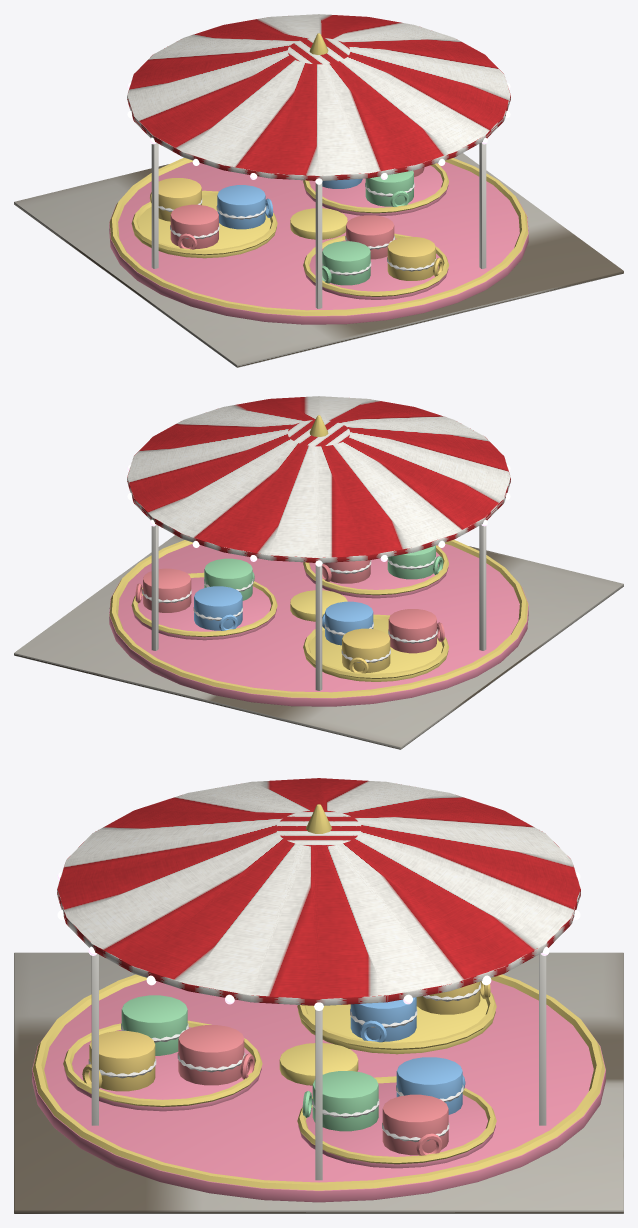
File: th32_teetassen.glb
3 views of the same model, one above another, from view 1: azimuth 30°, elevation 25°; view 2: azimuth 150°, elevation 25°; view 3: azimuth 270°, elevation 25° (orthographic). The views are drawn at different scales.
Visible parts, largest first — view 1: Cone, Cylinder, Cube, Torus, Cylinder.012, Cylinder.032, Cylinder.002, Cylinder.020, Cylinder.027, Cylinder.022, Cylinder.024, Cylinder.017 (+10 smaller); view 2: Cone, Cylinder, Cube, Torus, Cylinder.002, Cylinder.012, Cylinder.032, Cylinder.017, Cylinder.014, Cylinder.007, Cylinder.022, Cylinder.004 (+11 smaller); view 3: Cone, Cylinder, Cube, Torus, Cylinder.002, Cylinder.032, Cylinder.012, Cylinder.022, Cylinder.030, Cylinder.004, Cylinder.010, Cylinder.027 (+11 smaller).
Part boxes in pixels (<box>): Cone: <box>127,14,510,175</box>; Cylinder: <box>109,162,528,324</box>; Cube: <box>14,153,623,367</box>; Torus: <box>109,157,528,316</box>; Cylinder.012: <box>132,195,276,258</box>; Cylinder.032: <box>127,46,510,180</box>; Cylinder.002: <box>304,165,448,215</box>; Cylinder.020: <box>217,185,265,229</box>; Cylinder.027: <box>387,237,435,280</box>; Cylinder.022: <box>304,238,448,299</box>; Cylinder.024: <box>322,241,370,285</box>; Cylinder.017: <box>170,204,218,248</box>; Cone: <box>127,396,510,557</box>; Cylinder: <box>109,544,528,706</box>; Cube: <box>14,535,623,749</box>; Torus: <box>109,539,528,698</box>; Cylinder.002: <box>132,577,276,640</box>; Cylinder.012: <box>304,619,448,681</box>; Cylinder.032: <box>127,428,510,562</box>; Cylinder.017: <box>388,609,436,653</box>; Cylinder.014: <box>342,628,390,672</box>; Cylinder.007: <box>194,586,242,630</box>; Cylinder.022: <box>304,552,448,598</box>; Cylinder.004: <box>143,568,191,612</box>; Cone: <box>57,778,580,998</box>; Cylinder: <box>32,980,605,1202</box>; Cube: <box>14,952,623,1213</box>; Torus: <box>32,974,605,1190</box>; Cylinder.002: <box>298,1082,495,1168</box>; Cylinder.032: <box>57,817,580,1005</box>; Cylinder.012: <box>298,994,495,1054</box>; Cylinder.022: <box>64,1027,261,1111</box>; Cylinder.030: <box>178,1025,244,1085</box>; Cylinder.004: <box>382,1094,448,1155</box>; Cylinder.010: <box>312,1071,378,1131</box>; Cylinder.027: <box>89,1031,155,1091</box>.
Size of the model in its own units: 17 by 8.62 by 17.
Materials: 13 (2 with a texture image).
